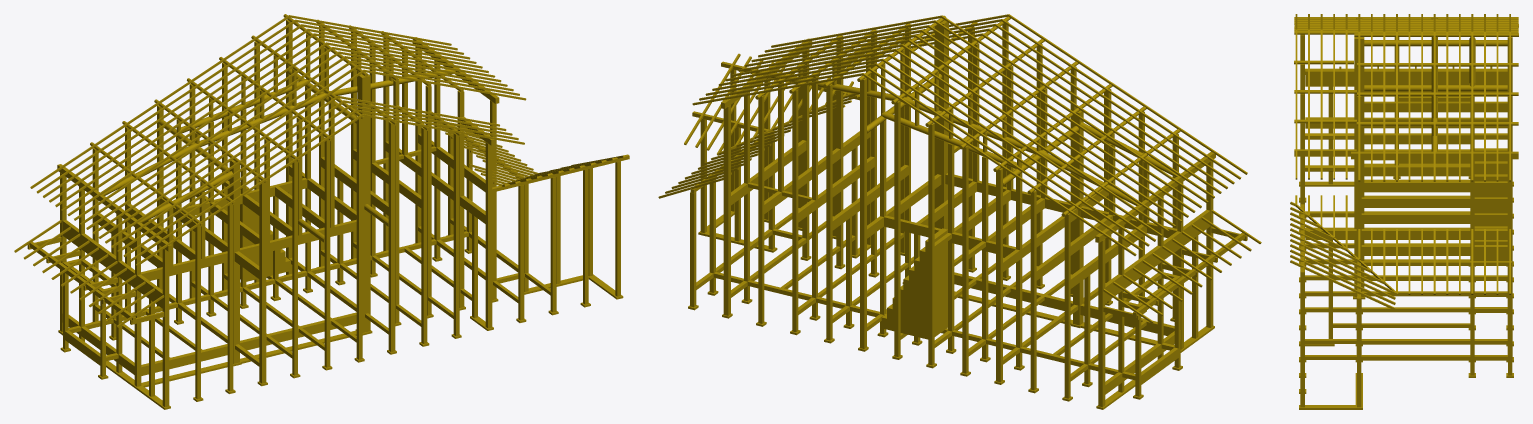
Rendered from 京町家２.glb.
3 renders of one model, left to right at view 1: azimuth 30°, elevation 25°; view 2: azimuth 150°, elevation 25°; view 3: azimuth 270°, elevation 25°, orthographic. The views are drawn at different scales.
Parts seen in each view (by area): view 1: R041106 接道許可リーフレット用（マテリアル; view 2: R041106 接道許可リーフレット用（マテリアル; view 3: R041106 接道許可リーフレット用（マテリアル.
Boxes of the visible parts, x1,y1,x2,y2 form: R041106 接道許可リーフレット用（マテリアル: (14, 14, 629, 409); R041106 接道許可リーフレット用（マテリアル: (658, 14, 1261, 409); R041106 接道許可リーフレット用（マテリアル: (1290, 14, 1518, 409).
Bounding box in the file's own units: 0.1441 × 0.0706 × 0.0552.
